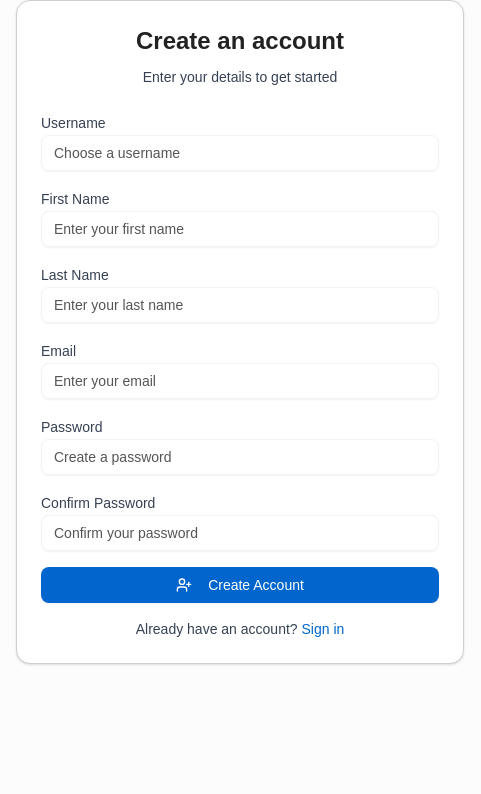
Test: RegisterForm › shows error when invalid input is provided
Type "jo" into the field with placeholder "Choose a username" at (240, 153), box 41,135 -> 439,171
Type "J" into the field with placeholder "Enter your first name" at (240, 229), box 41,211 -> 439,247
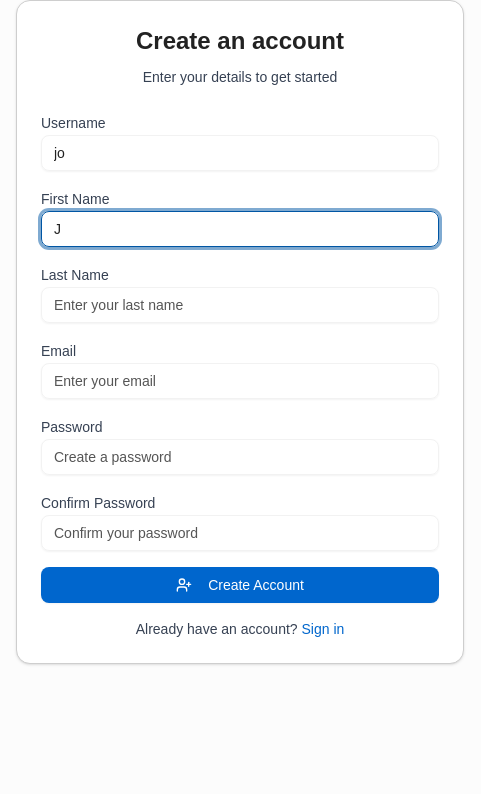
Type "Doe" into the field with placeholder "Enter your last name" at (240, 305), box 41,287 -> 439,323
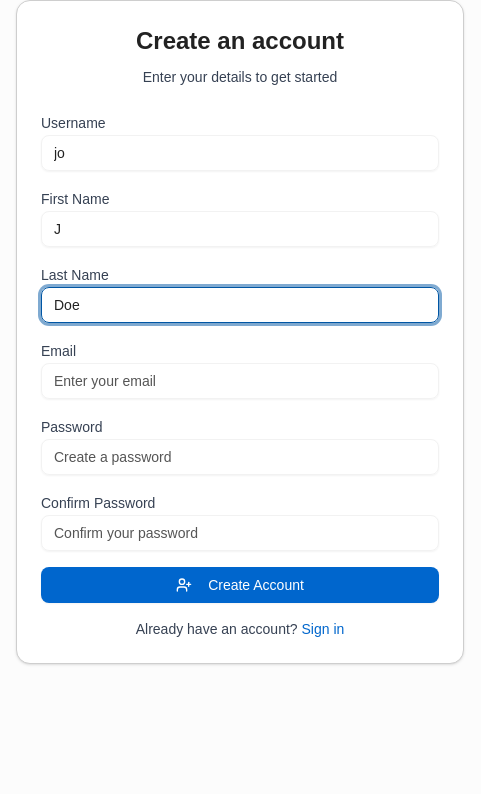
Type "example.com" into the field with placeholder "Enter your email" at (240, 381), box 41,363 -> 439,399
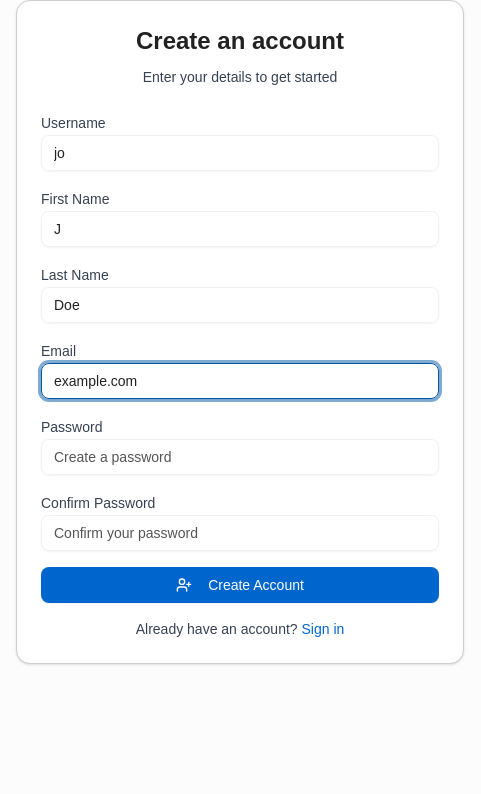
Type "123" into the password field with placeholder "Create a password" at (240, 457), box 41,439 -> 439,475
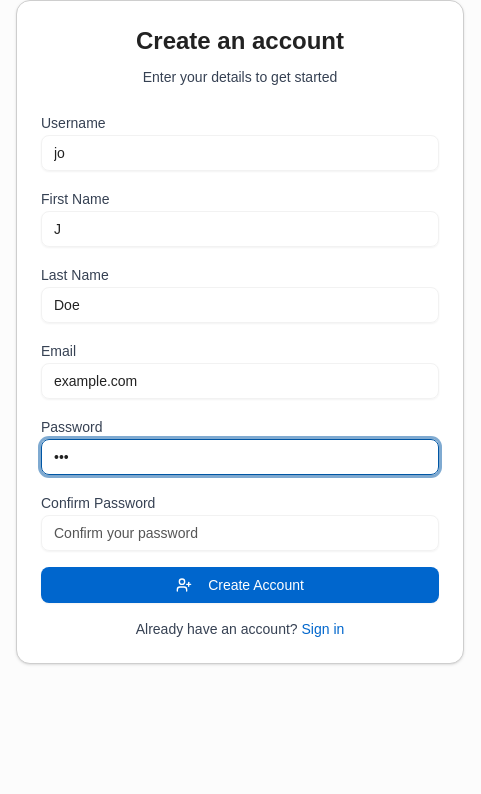
Type "123" into the password field with placeholder "Confirm your password" at (240, 533), box 41,515 -> 439,551
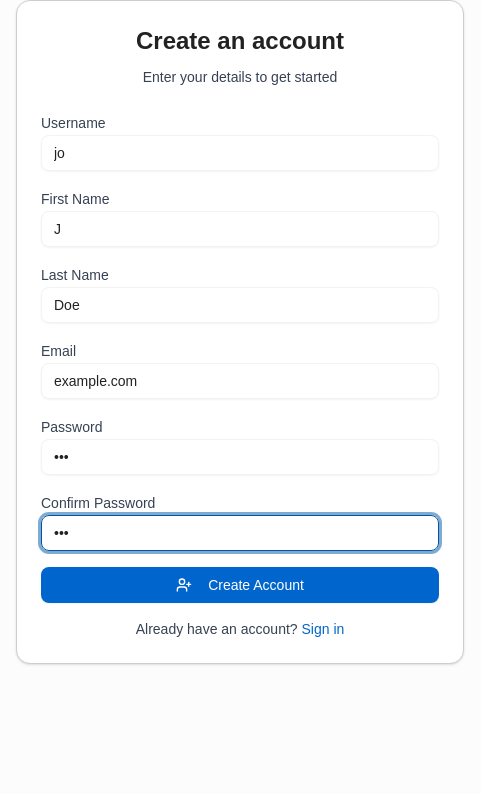
Click the button "Create Account" at (240, 585), box 41,567 -> 439,603
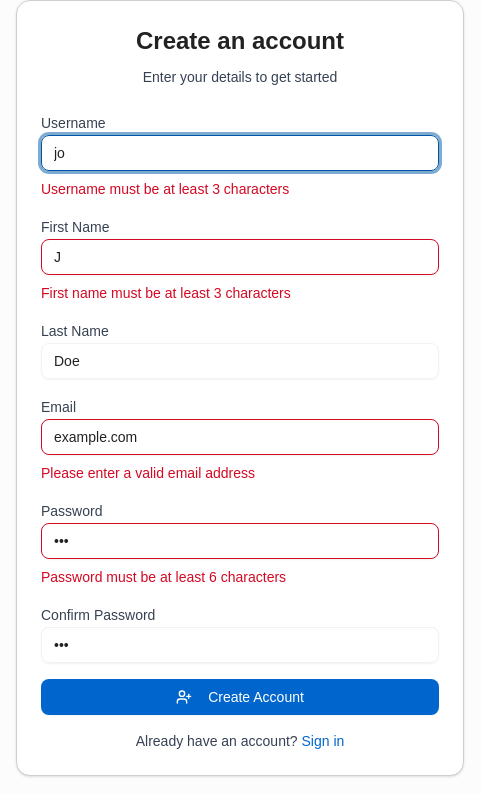
Result: the text "Username must be at least 3 characters" is shown at 41,181 -> 289,197
Result: the text "First name must be at least 3 characters" is shown at 41,285 -> 291,301
Result: the text "Please enter a valid email address" is shown at 41,465 -> 255,481
